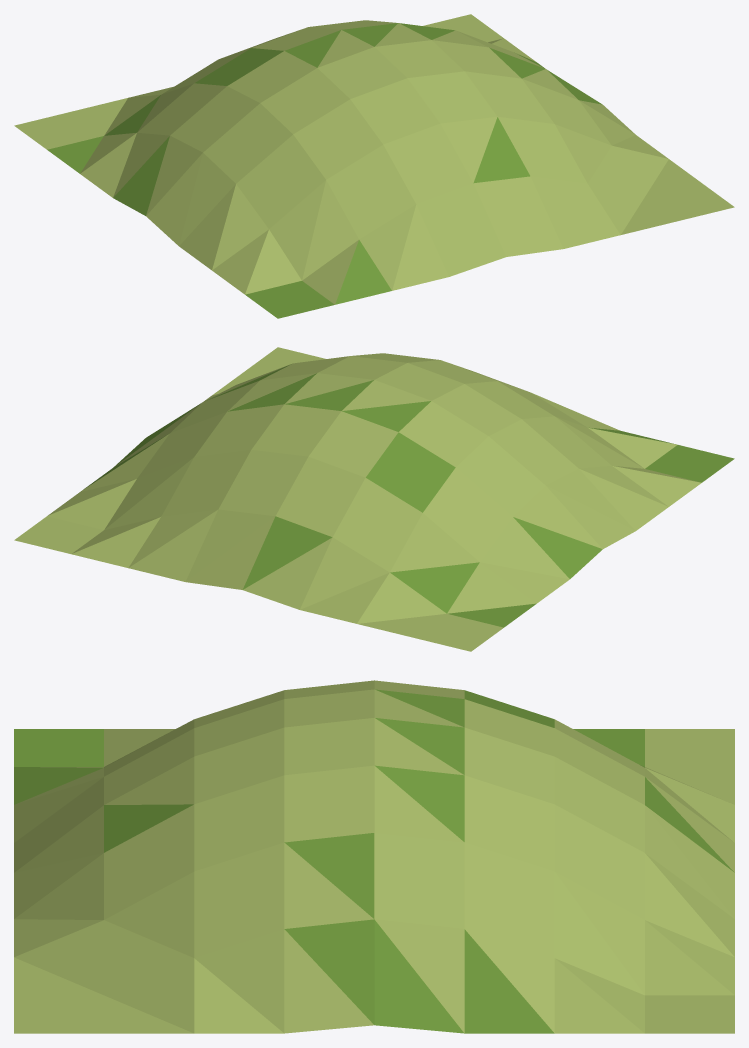
The model's file is terrain_hill.glb.
3 renders of one model, top to bottom at view 1: azimuth 30°, elevation 25°; view 2: azimuth 150°, elevation 25°; view 3: azimuth 270°, elevation 25°, orthographic. The views are drawn at different scales.
Visible parts, largest first — view 1: terrain_hill; view 2: terrain_hill; view 3: terrain_hill.
Part boxes in pixels (left/top/right/bottom): terrain_hill: left=14, top=14, right=734, bottom=318; terrain_hill: left=14, top=347, right=734, bottom=651; terrain_hill: left=14, top=680, right=734, bottom=1033.
Size of the model in its own units: 1 by 0.25 by 1.
